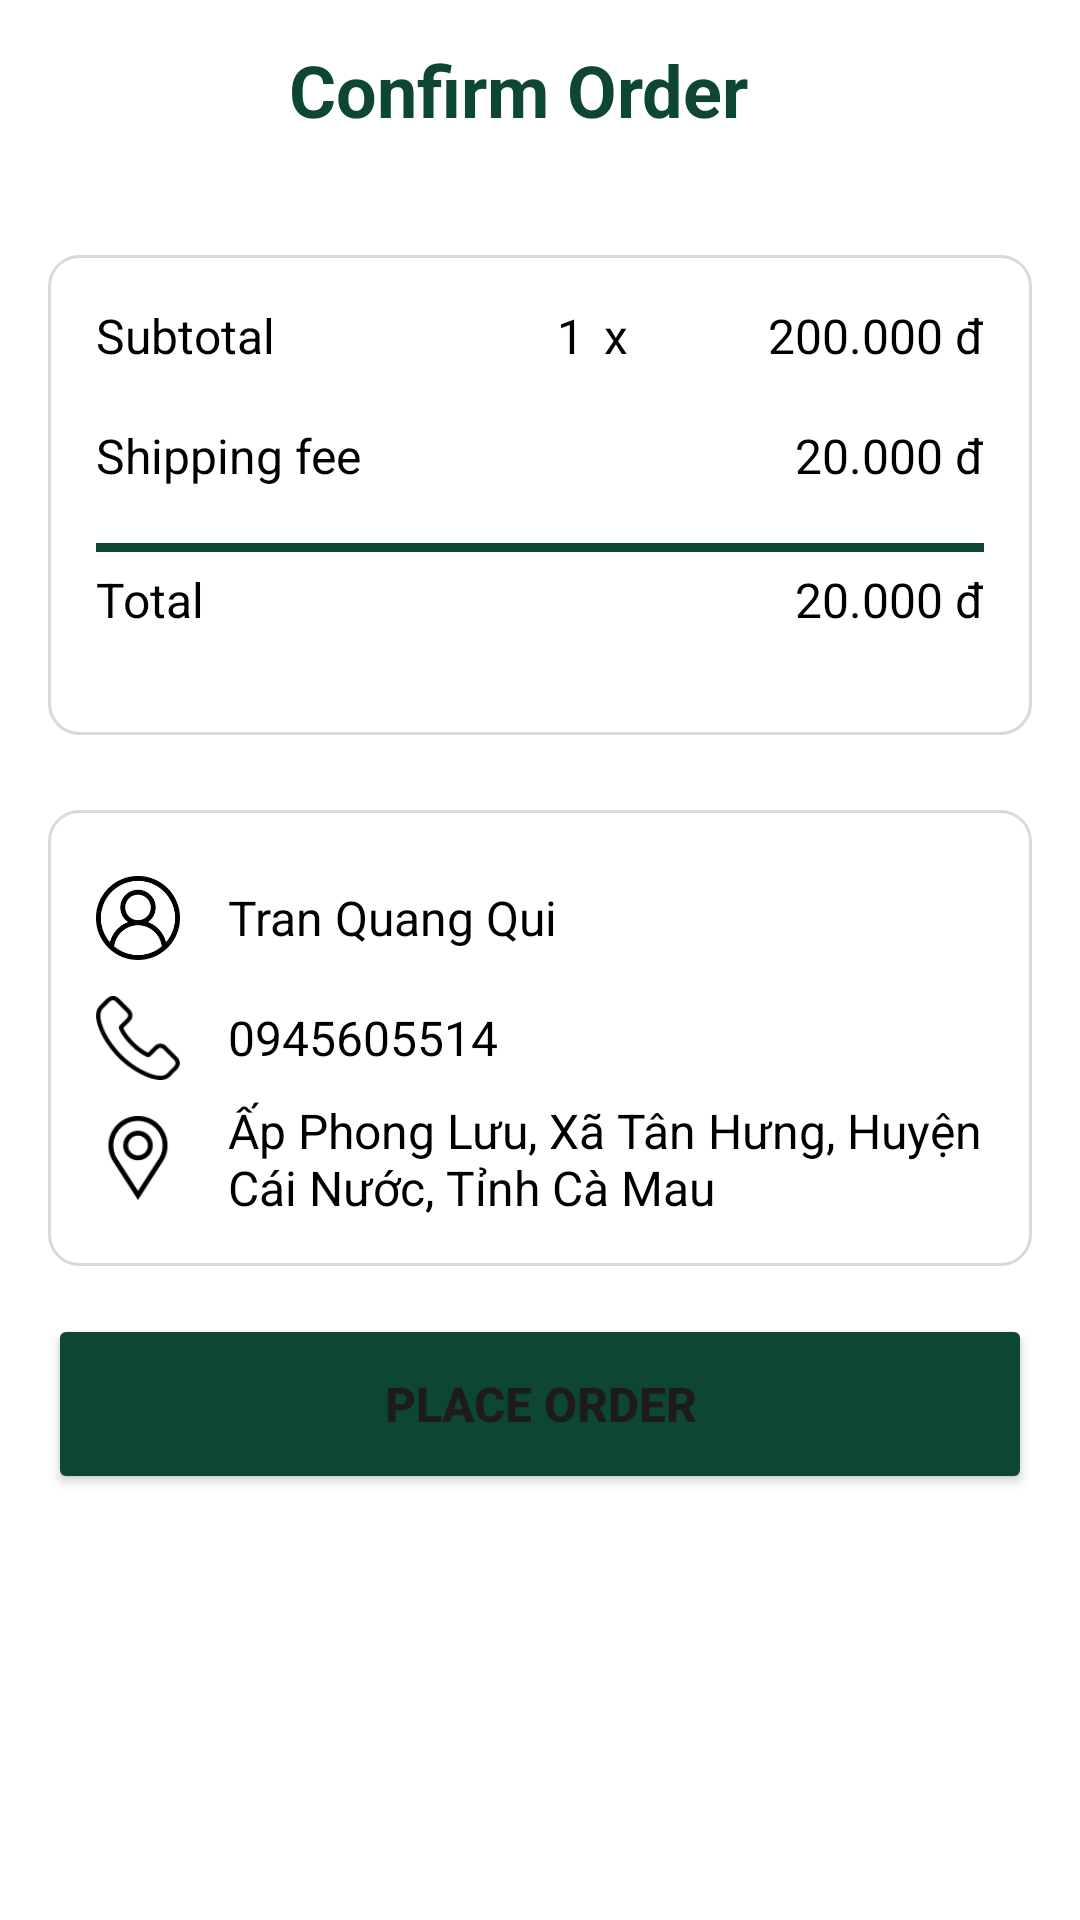

Named icons in this screenshot (1080 x 1920) and their bounding boxes, [x1,y1,x2,y2]:
location: [108,1116,168,1200]
telephone: [96,996,180,1080]
user: [96,876,180,960]
